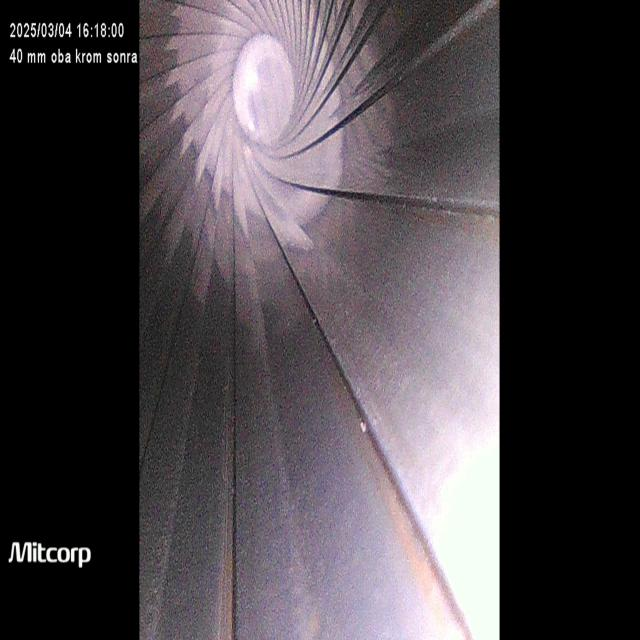hata_8.2: (210, 136, 327, 290)
